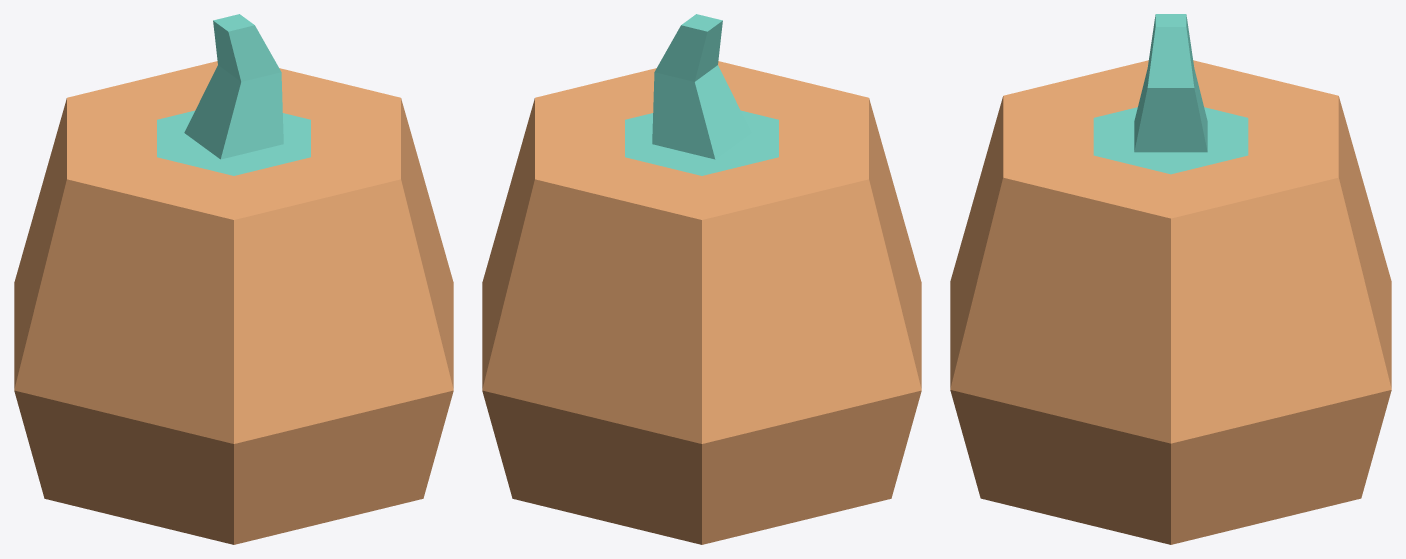
Rendered from pumpkinTall.glb.
3 views of the same model, side by side, from view 1: azimuth 30°, elevation 25°; view 2: azimuth 150°, elevation 25°; view 3: azimuth 270°, elevation 25° (orthographic).
Parts seen in each view (by area): view 1: pumpkinTall; view 2: pumpkinTall; view 3: pumpkinTall.
Boxes of the visible parts, x1,y1,x2,y2 form: pumpkinTall: (14, 14, 453, 544); pumpkinTall: (482, 14, 921, 544); pumpkinTall: (950, 14, 1391, 544).
Size of the model in its own units: 0.2784 by 0.26 by 0.2411.
